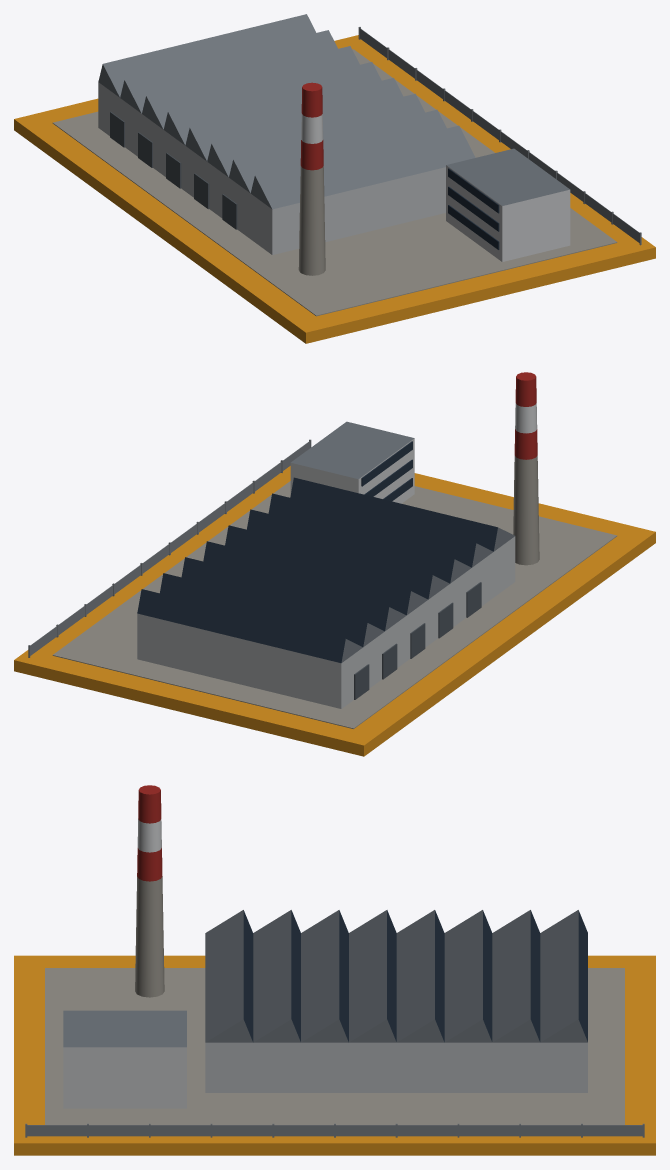
The model's file is arms_company_amber.glb.
3 renders of one model, top to bottom at view 1: azimuth 30°, elevation 25°; view 2: azimuth 150°, elevation 25°; view 3: azimuth 270°, elevation 25°, orthographic. The views are drawn at different scales.
Parts seen in each view (by area): view 1: arms_company_amber; view 2: arms_company_amber; view 3: arms_company_amber.
Boxes of the visible parts, x1=… form: arms_company_amber: x1=14, y1=14, x2=655, y2=343; arms_company_amber: x1=14, y1=372, x2=655, y2=756; arms_company_amber: x1=14, y1=785, x2=655, y2=1155.
Size of the model in its own units: 72 by 38.35 by 104.
